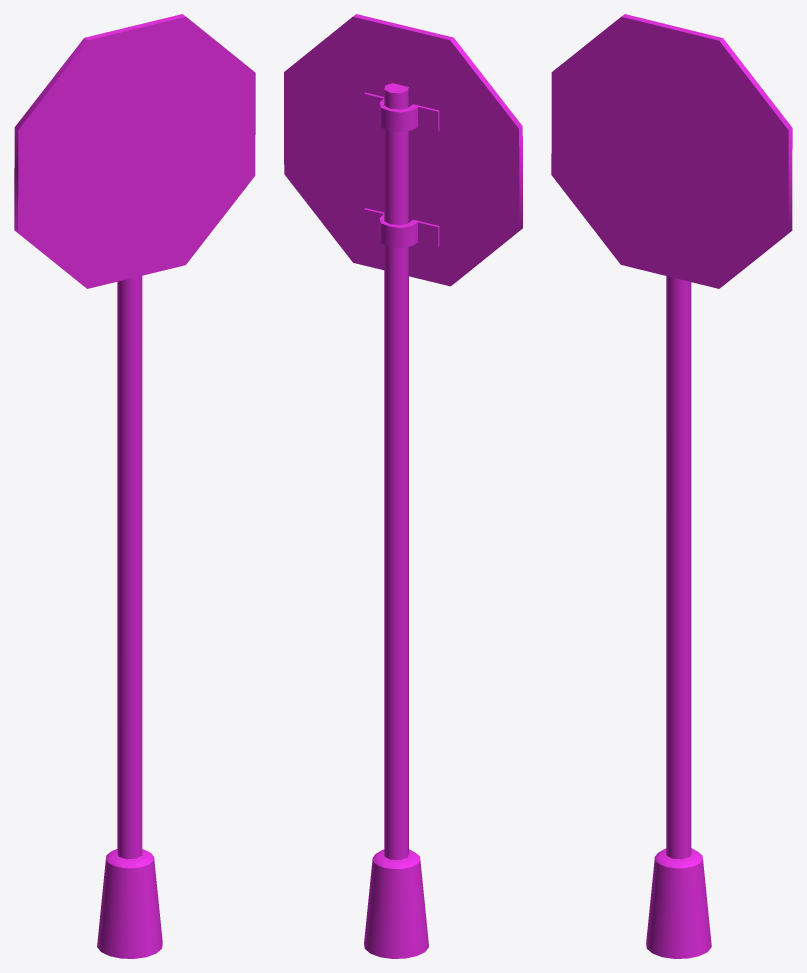
File: SM_Sign_Stop.FBX
3 renders of one model, left to right at view 1: azimuth 30°, elevation 25°; view 2: azimuth 150°, elevation 25°; view 3: azimuth 330°, elevation 25°, orthographic.
Parts seen in each view (by area): view 1: Sign_Stop; view 2: Sign_Stop; view 3: Sign_Stop.
Boxes of the visible parts, box(x1,y1,x2,y2) form: Sign_Stop: box(14, 14, 255, 958); Sign_Stop: box(284, 14, 522, 958); Sign_Stop: box(551, 14, 792, 958).
Size of the model in its own units: 87.5 by 325 by 21.24.
